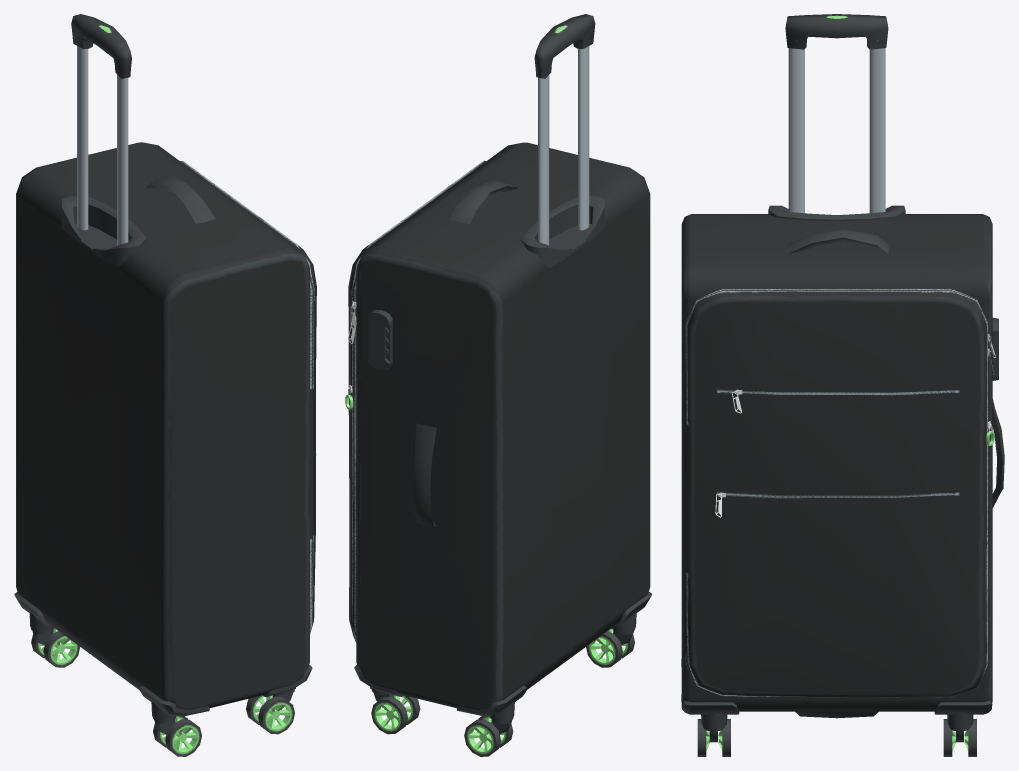
Rendered from bag2.glb.
3 renders of one model, left to right at view 1: azimuth 30°, elevation 25°; view 2: azimuth 150°, elevation 25°; view 3: azimuth 270°, elevation 25°, orthographic.
Parts seen in each view (by area): view 1: luggage_3_low, luggage_2_low, luggage_1_low, luggage_5_low, luggage_4_low; view 2: luggage_3_low, luggage_1_low, luggage_2_low, luggage_5_low, luggage_4_low; view 3: luggage_1_low, luggage_3_low, luggage_2_low, luggage_4_low, luggage_5_low.
Boxes of the visible parts, x1,y1,x2,y2 form: luggage_3_low: (16,142,309,709); luggage_2_low: (29,46,295,756); luggage_1_low: (32,14,316,734); luggage_5_low: (61,195,146,268); luggage_4_low: (14,454,316,716); luggage_3_low: (348,142,650,709); luggage_1_low: (348,14,634,734); luggage_2_low: (347,46,636,756); luggage_5_low: (520,195,604,268); luggage_4_low: (345,306,652,716); luggage_1_low: (685,14,1004,742); luggage_3_low: (681,214,992,711); luggage_2_low: (697,48,992,756); luggage_4_low: (681,338,995,714); luggage_5_low: (768,205,905,221).
Size of the model in its own units: 1.27 by 4.88 by 2.08.
8 materials, 7 textured.
